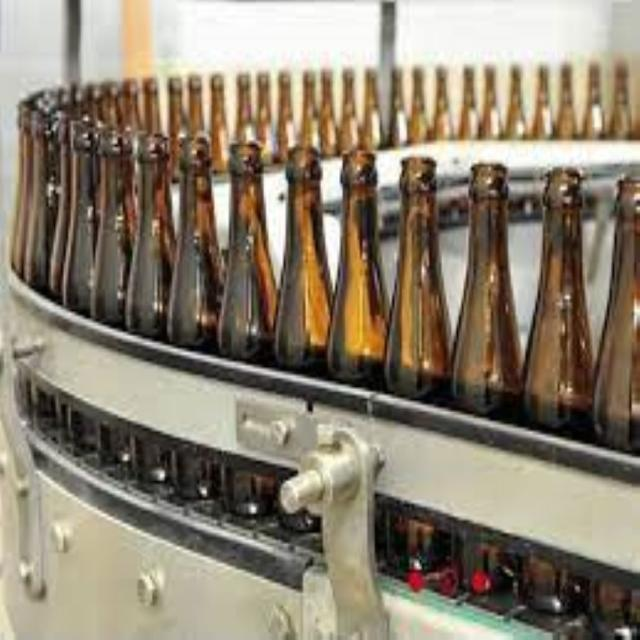bottle: (11, 64, 637, 452)
